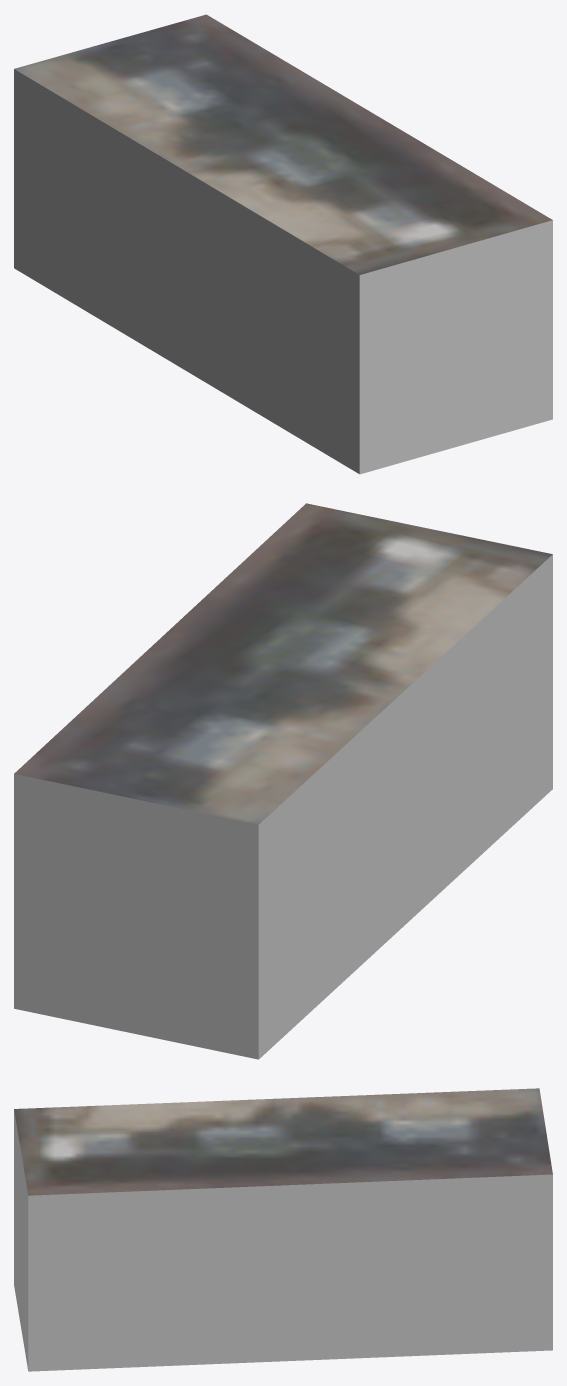
The model's file is DEBW_0010007Txio.gltf.
3 renders of one model, top to bottom at view 1: azimuth 30°, elevation 25°; view 2: azimuth 150°, elevation 25°; view 3: azimuth 270°, elevation 25°, orthographic. The views are drawn at different scales.
Visible parts, largest first — view 1: Z_UP; view 2: Z_UP; view 3: Z_UP.
Boxes of the visible parts, box(x1,y1,x2,y2) form: Z_UP: box(14, 14, 552, 474); Z_UP: box(14, 503, 552, 1059); Z_UP: box(14, 1088, 552, 1371).
Bounding box in the file's own units: 6.59 × 5.03 × 13.98.
2 materials, 1 textured.
